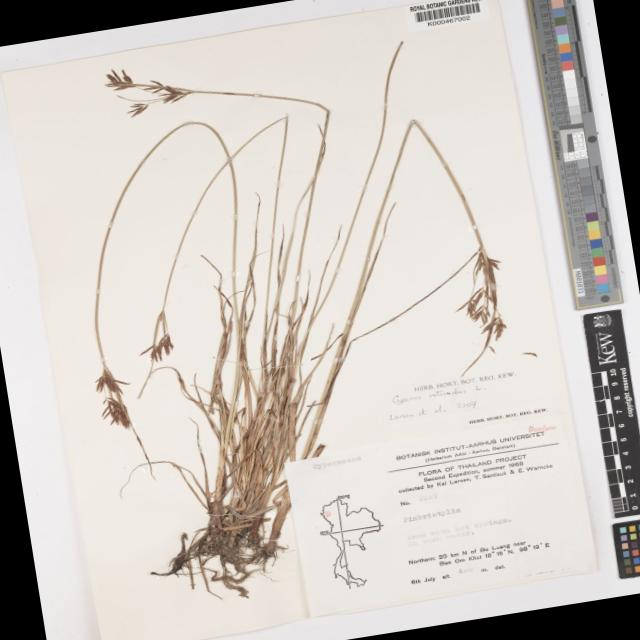cyperus: (69, 300, 206, 436), (433, 241, 541, 366), (90, 54, 196, 132)
